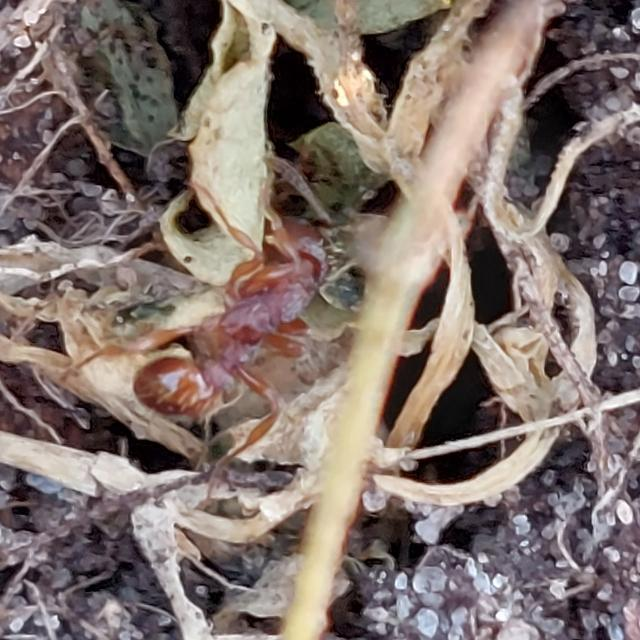Myrmica: (106, 165, 360, 442)
